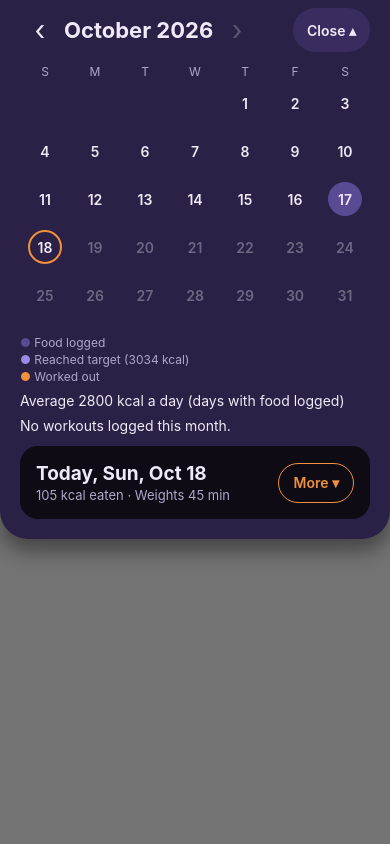
CalendarOverlay › unfolds the foods, macros and nutrients with More, and folds them with Less
What coordinates should you click on to do the following:
click the button with aria-label "More about this day"
I would click on:
 (316, 482)
Its box is [278, 462, 354, 502].
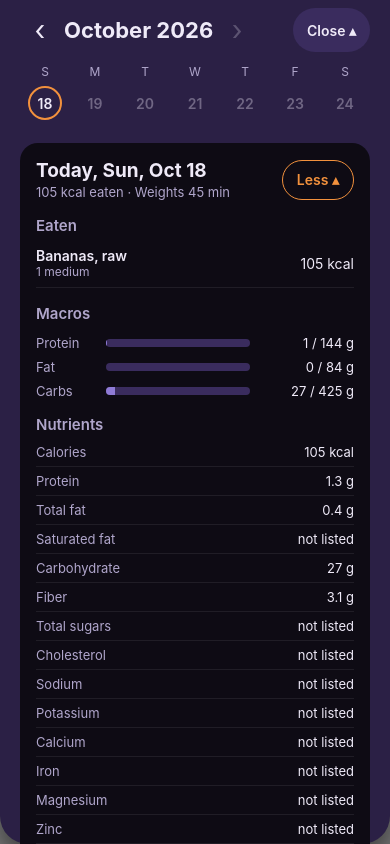
Expected: the text "Bananas, raw" is shown, [36, 247, 127, 264]
Expected: the text "Macros" is shown, [36, 304, 90, 323]
Expected: the text named "Fiber 3.1 g" is shown, [327, 589, 354, 605]
What coordinates should you click on to do the following:
click the button with aria-label "Show less"
I would click on:
 (318, 180)
Its box is [282, 160, 354, 200].
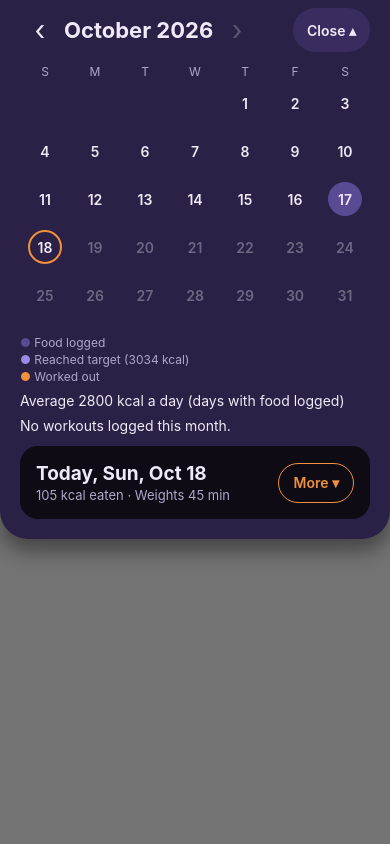
Expected: the heading "Nutrients" is gone
